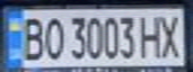0: (84, 12, 106, 60), (103, 12, 121, 60)
3: (66, 12, 87, 61), (118, 12, 139, 60)
B: (15, 14, 48, 62)
H: (136, 11, 166, 60)
O: (39, 14, 66, 61)
X: (154, 11, 187, 58)
